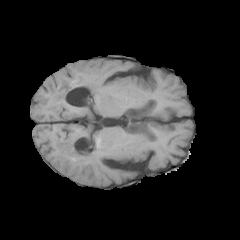glioma: (47, 76, 100, 176)
